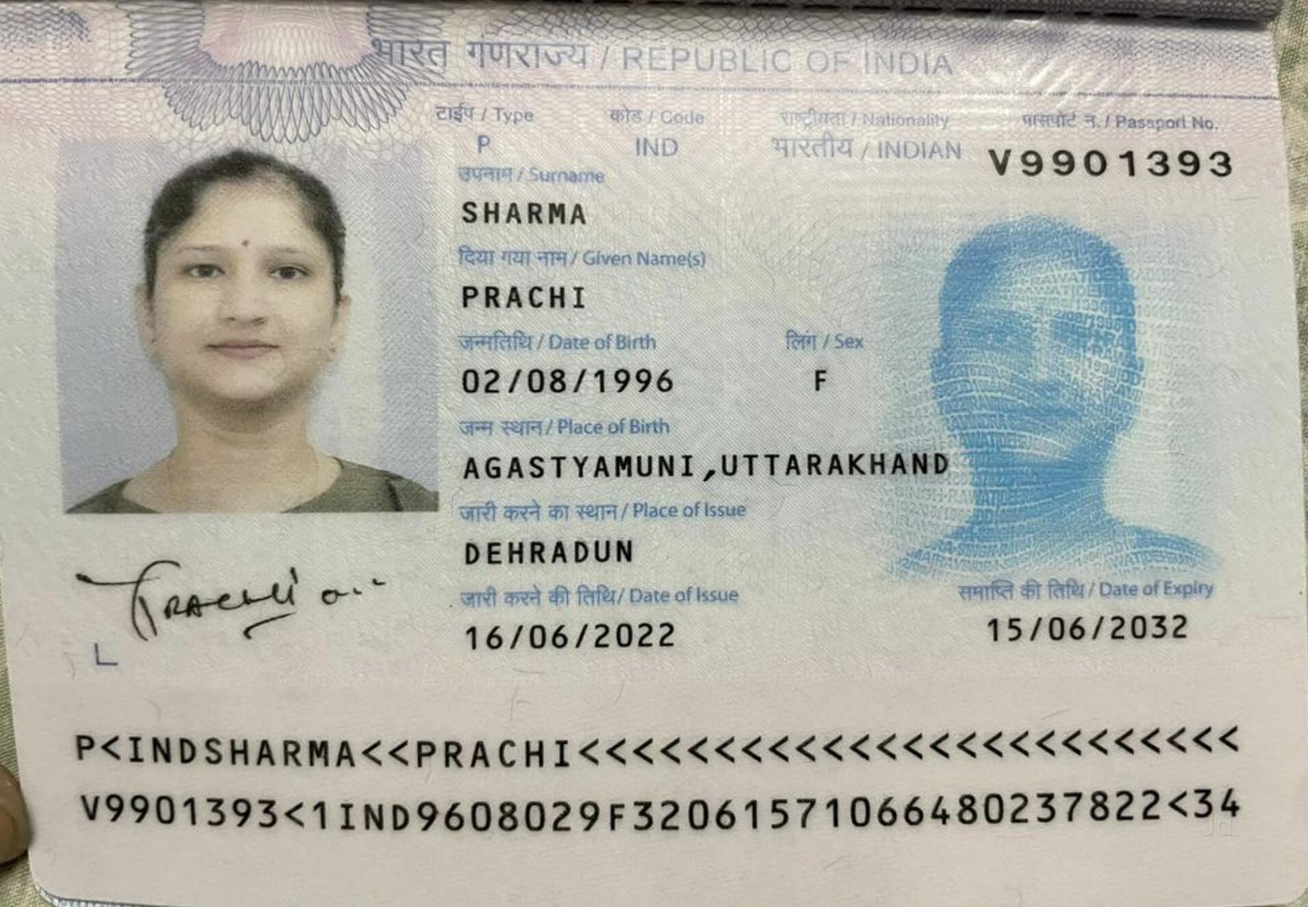DOB: (458, 354, 681, 406)
Surname: (456, 187, 600, 246)
country_code: (624, 128, 693, 170)
date_of_expiry: (975, 607, 1205, 656)
date_of_issue: (455, 609, 686, 665)
details: (50, 705, 1258, 845)
name: (449, 274, 620, 326)
nationality: (759, 125, 968, 178)
passport_no: (971, 137, 1250, 201)
photo: (57, 132, 436, 520)
place_of_birth: (449, 442, 981, 492)
place_of_issue: (457, 528, 644, 575)
sex: (799, 356, 842, 403)
sign: (87, 551, 407, 656)
type: (467, 132, 513, 162)
